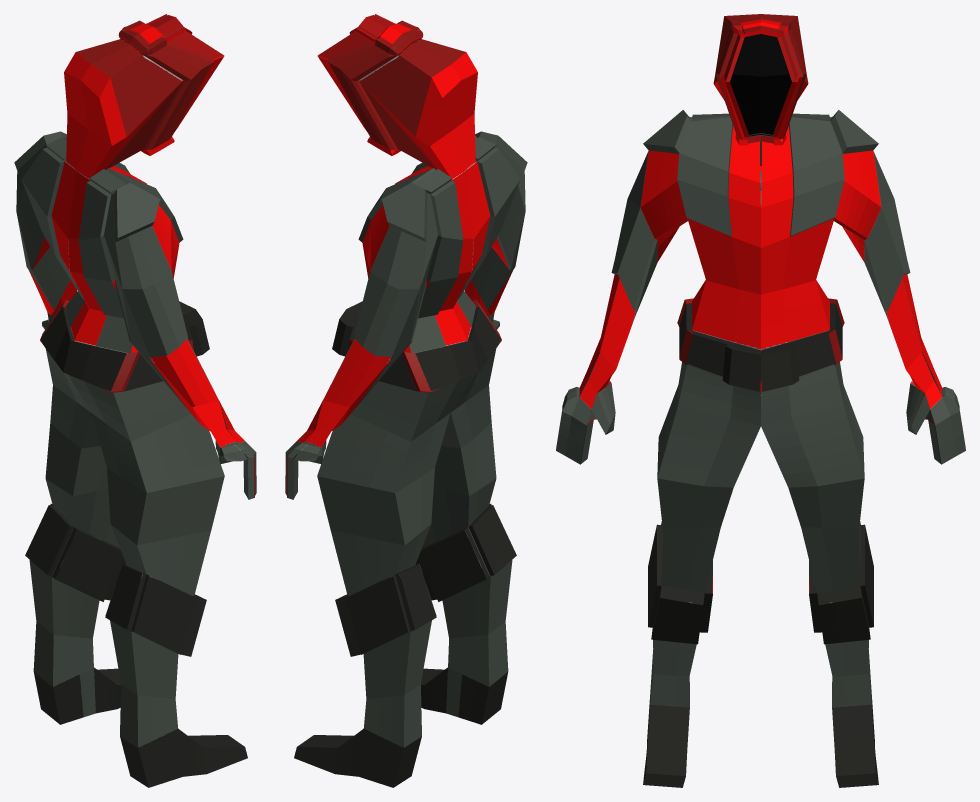
The model's file is omen_v2.fbx.
The picture shows the model from 3 angles, left to right: view 1: azimuth 30°, elevation 25°; view 2: azimuth 150°, elevation 25°; view 3: azimuth 270°, elevation 25°; orthographic projection. The views are drawn at different scales.
Visible parts, largest first — view 1: Cube; view 2: Cube; view 3: Cube.
Part boxes in pixels (x1,y1,x2,y2): Cube: [14, 14, 256, 787]; Cube: [285, 14, 527, 787]; Cube: [556, 14, 965, 787].
Bounding box in the file's own units: 75.21 × 350 × 172.
